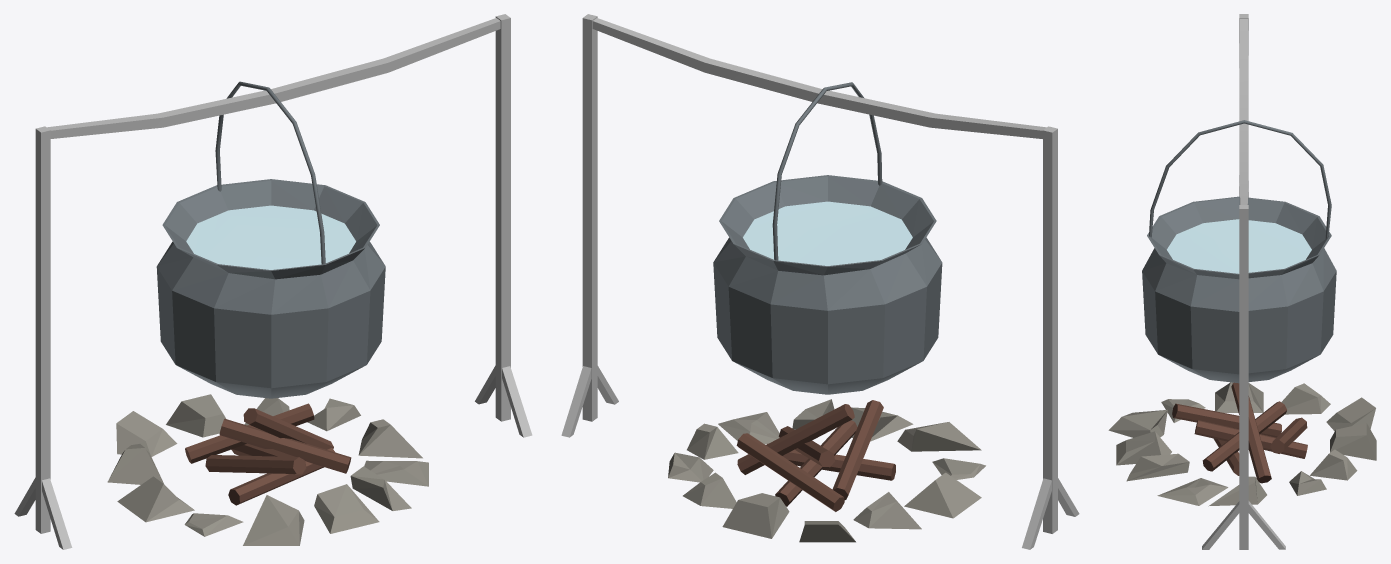
File: Fire Pot.fbx
3 renders of one model, left to right at view 1: azimuth 30°, elevation 25°; view 2: azimuth 150°, elevation 25°; view 3: azimuth 270°, elevation 25°, orthographic. The views are drawn at different scales.
Visible parts, largest first — view 1: stand; view 2: stand; view 3: stand.
Boxes of the visible parts, x1,y1,x2,y2 form: stand: [14, 14, 532, 549]; stand: [561, 14, 1079, 549]; stand: [1108, 14, 1376, 549].
Size of the model in its own units: 122 by 101 by 71.24.
